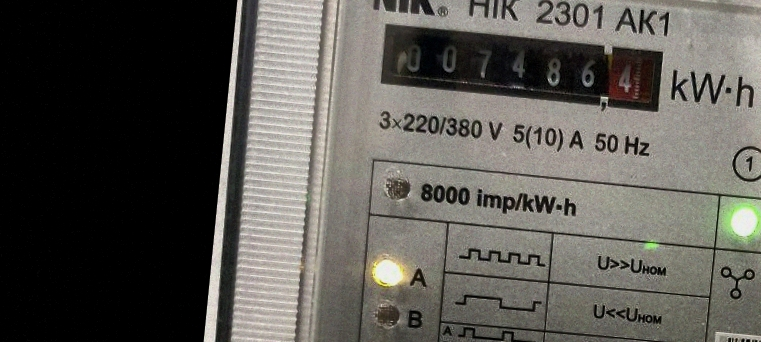0: (401, 39, 425, 75), (438, 41, 460, 75)
4: (507, 44, 529, 81), (614, 60, 635, 96)
6: (578, 56, 600, 90)
7: (470, 45, 496, 80)
8: (543, 54, 564, 91)
screen: (369, 11, 674, 124)
